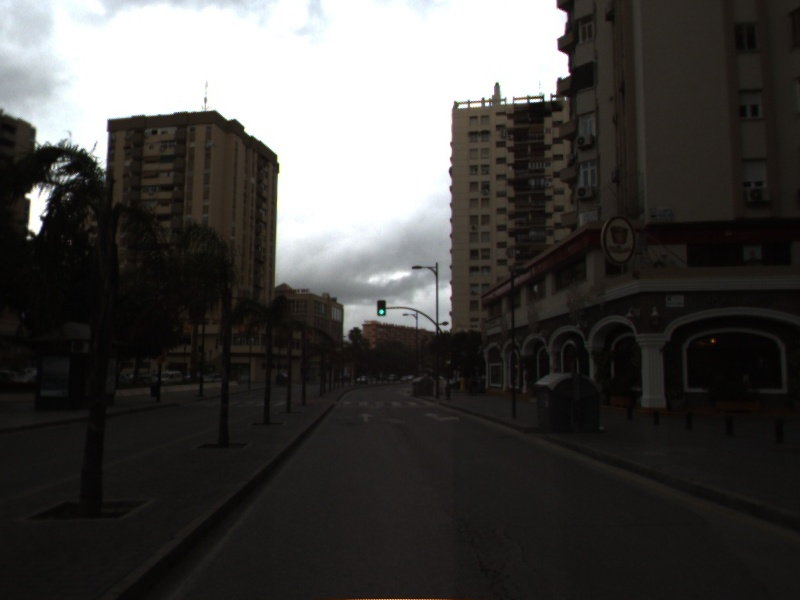STRAIGHT: (355, 411, 377, 424)
STRAIGHT_RIGHT: (422, 410, 463, 424)
